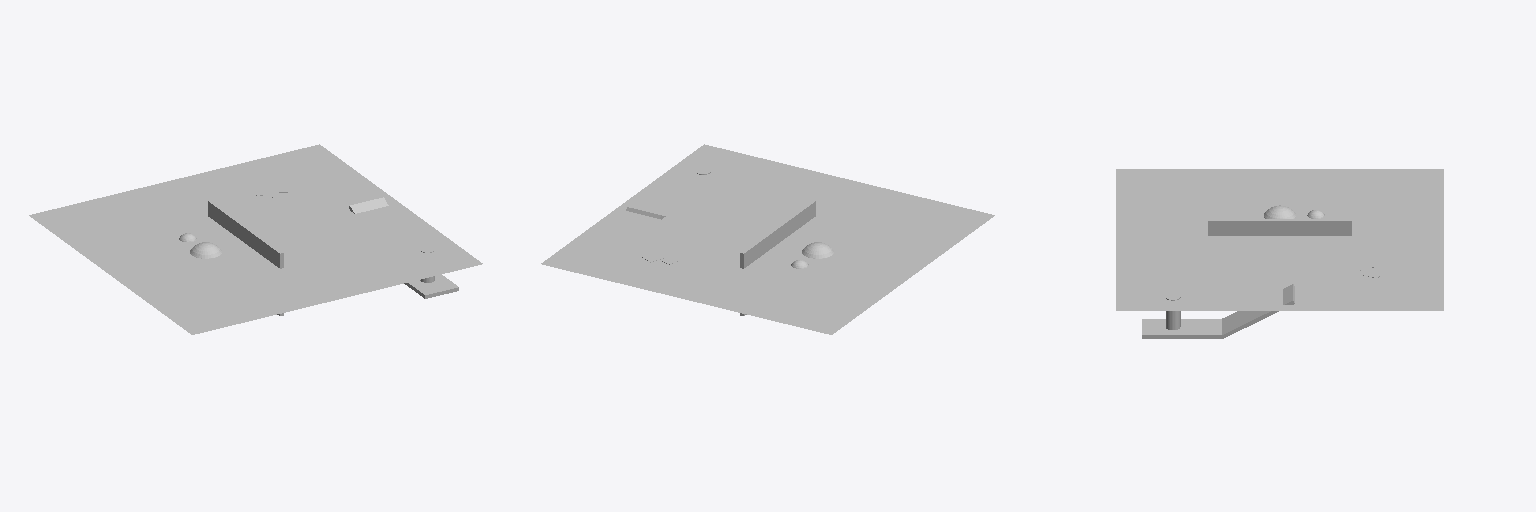
The model's file is testScene.obj.
3 renders of one model, left to right at view 1: azimuth 30°, elevation 25°; view 2: azimuth 150°, elevation 25°; view 3: azimuth 270°, elevation 25°, orthographic.
Parts seen in each view (by area): view 1: Plane, Cube.004, Cube.003; view 2: Plane, Cube.004; view 3: Plane, Cube.003, Cube.004.
Boxes of the visible parts, <box> form: Plane: <box>29,144,482,334</box>; Cube.004: <box>208,200,283,315</box>; Cube.003: <box>349,197,458,298</box>; Plane: <box>541,144,994,334</box>; Cube.004: <box>740,200,815,315</box>; Plane: <box>1116,169,1443,310</box>; Cube.003: <box>1142,284,1294,338</box>; Cube.004: <box>1208,219,1351,235</box>.
Bounding box in the file's own units: 17.17 × 3.53 × 16.72.